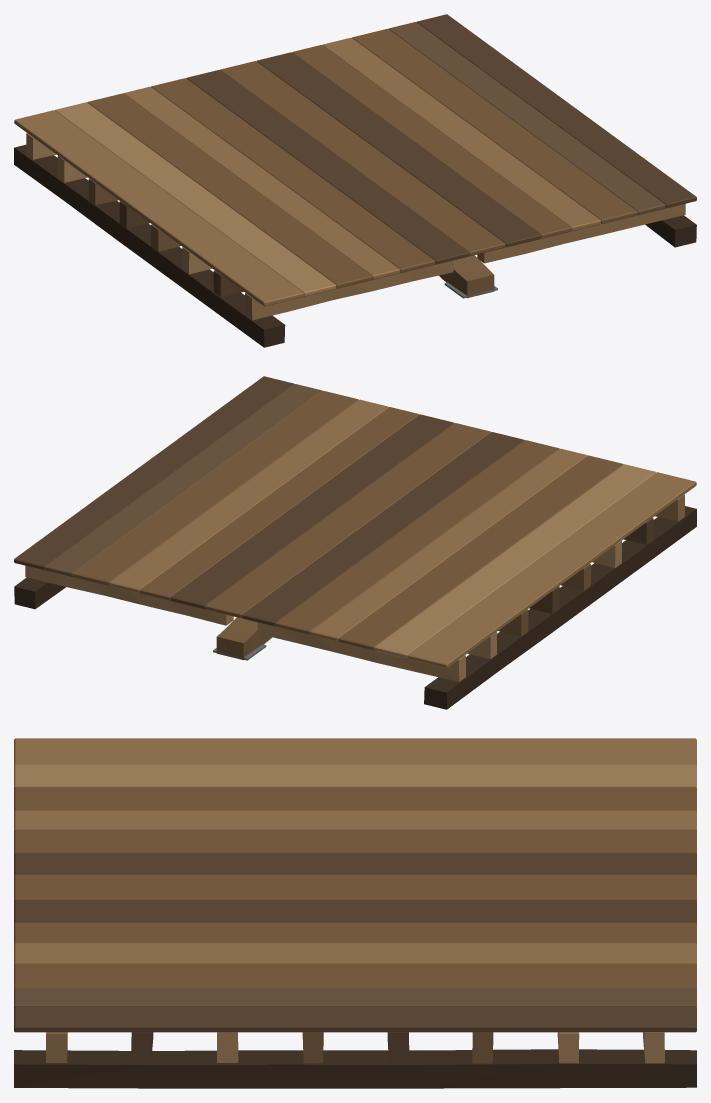
Rendered from SM_LPD_Struct_CeilTimberBraced_01.fbx.
3 renders of one model, top to bottom at view 1: azimuth 30°, elevation 25°; view 2: azimuth 150°, elevation 25°; view 3: azimuth 270°, elevation 25°, orthographic. The views are drawn at different scales.
Visible parts, largest first — view 1: SM_LPD_Struct_CeilTimberBraced_01; view 2: SM_LPD_Struct_CeilTimberBraced_01; view 3: SM_LPD_Struct_CeilTimberBraced_01.
Part boxes in pixels (x1=…): SM_LPD_Struct_CeilTimberBraced_01: x1=14, y1=14, x2=696, y2=347; SM_LPD_Struct_CeilTimberBraced_01: x1=14, y1=376, x2=696, y2=709; SM_LPD_Struct_CeilTimberBraced_01: x1=14, y1=738, x2=696, y2=1088.
Bounding box in the file's own units: 4 × 0.4 × 4.
